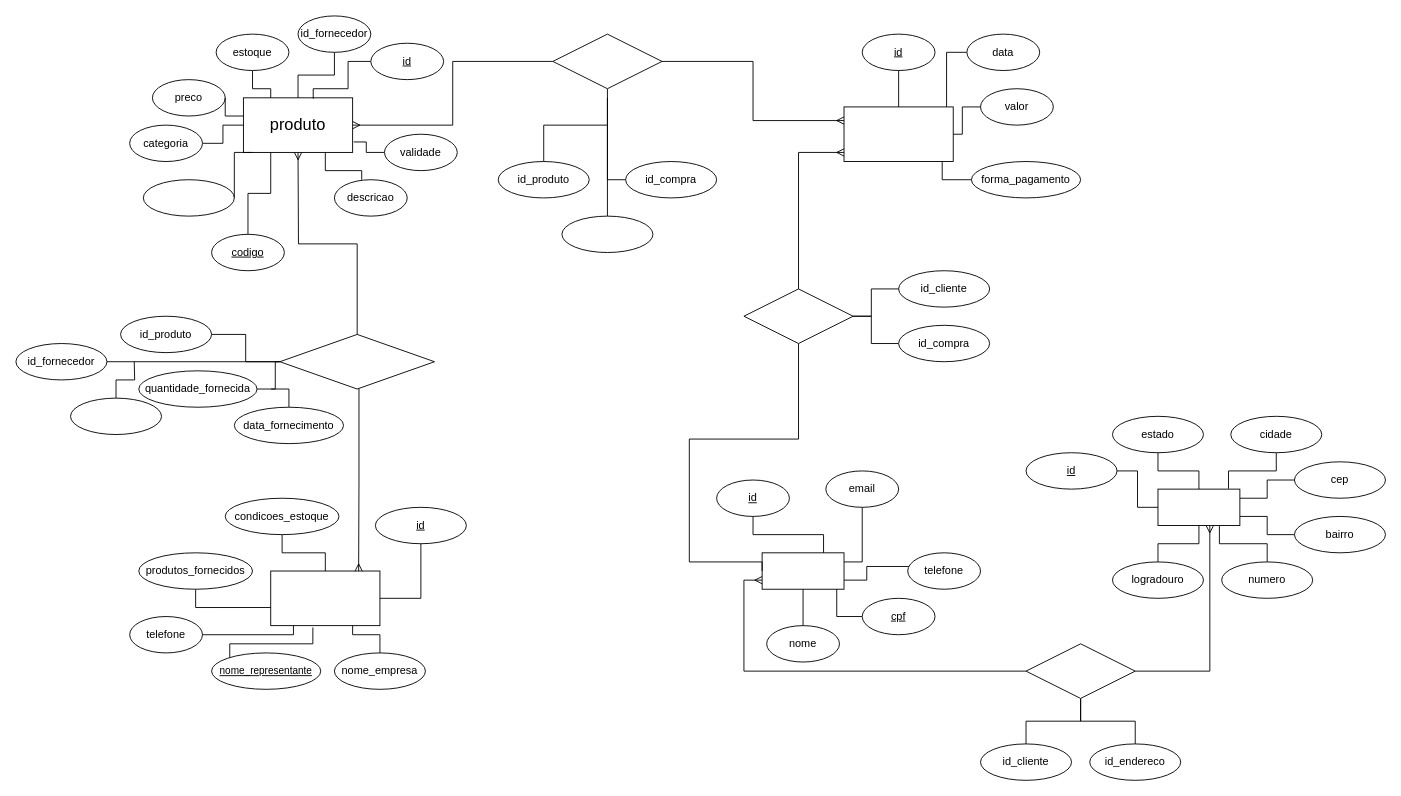
Image size: 1401x796. Some labels were removed from this diagram. Each missing label, with the box of its shape:
cliente: (761, 552, 844, 589)
cliente_compra: (743, 288, 853, 344)
cliente_endereco: (1025, 643, 1135, 698)
compra: (843, 106, 953, 162)
compra_produto: (552, 33, 662, 89)
endereco: (1157, 488, 1240, 526)
fornecedor: (270, 570, 380, 626)
fornecedor_produto: (279, 334, 435, 389)
nome_produto: (142, 179, 234, 216)
numero_pedido: (70, 397, 162, 435)
quantidade: (561, 215, 653, 253)
